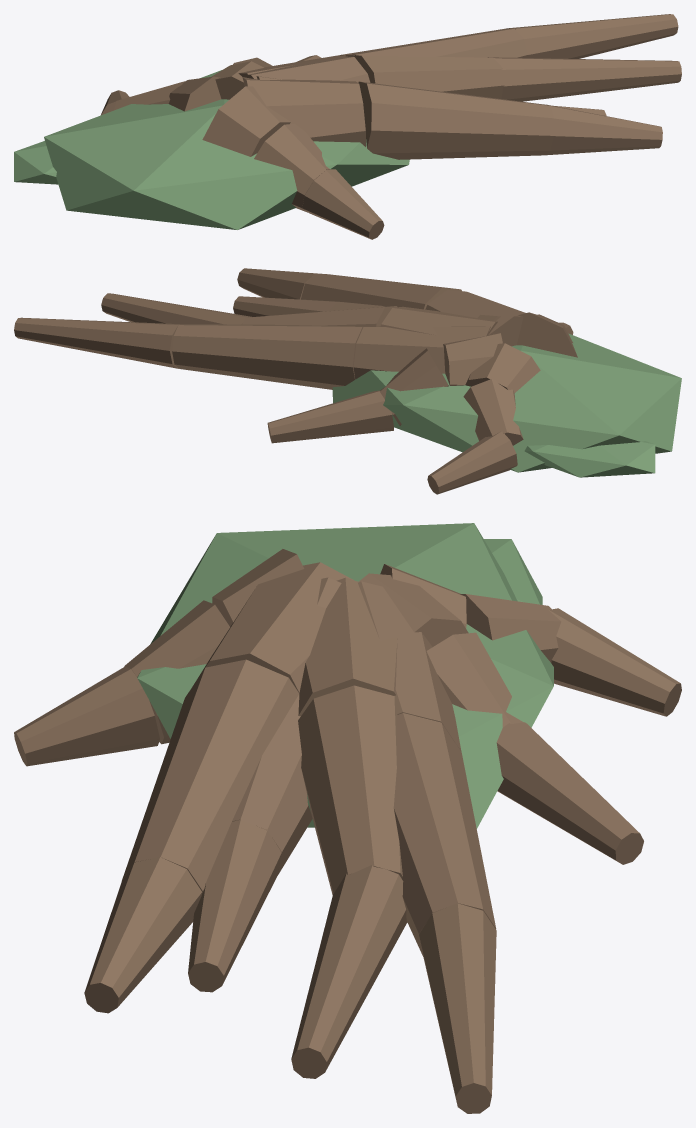
The model's file is myb_forest_root_cluster_lateral_a.fbx.
3 renders of one model, top to bottom at view 1: azimuth 30°, elevation 25°; view 2: azimuth 150°, elevation 25°; view 3: azimuth 270°, elevation 25°, orthographic. The views are drawn at different scales.
Visible parts, largest first — view 1: myb_forest_root_cluster_lateral_a; view 2: myb_forest_root_cluster_lateral_a; view 3: myb_forest_root_cluster_lateral_a.
Boxes of the visible parts, bbox=[...] form: myb_forest_root_cluster_lateral_a: bbox=[14, 14, 681, 239]; myb_forest_root_cluster_lateral_a: bbox=[14, 268, 681, 494]; myb_forest_root_cluster_lateral_a: bbox=[14, 523, 681, 1113].
Bounding box in the file's own units: 2.4 × 0.4168 × 1.27.
